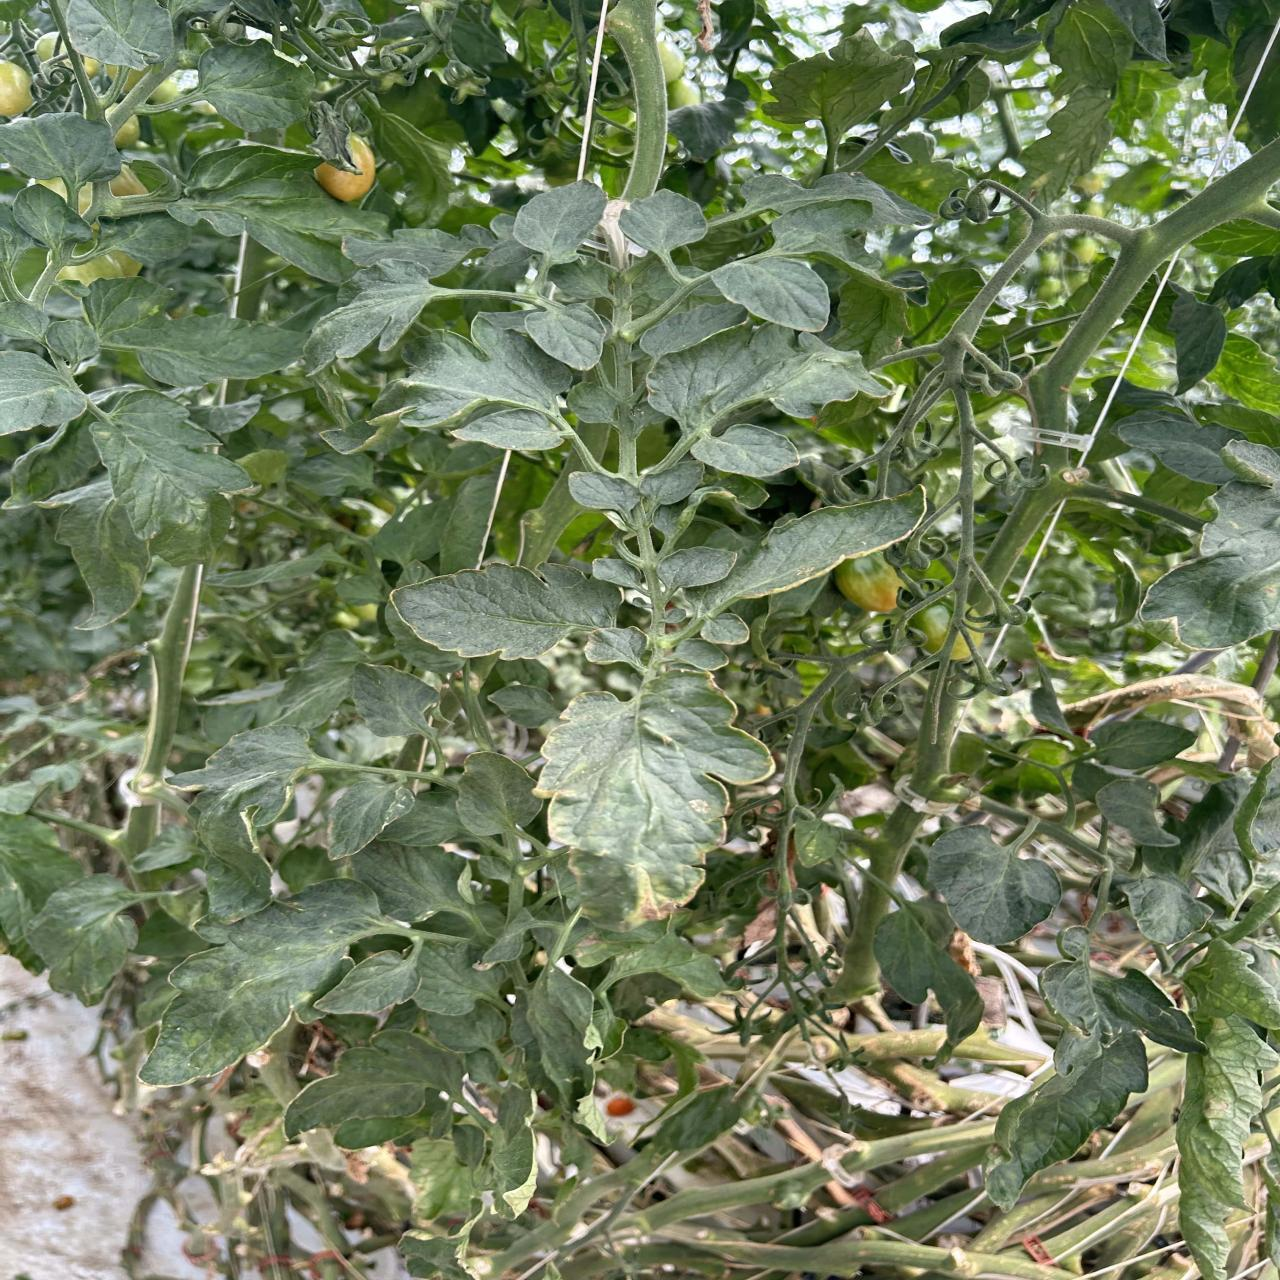Hoja: (1139, 442, 1280, 651), (90, 390, 252, 564), (987, 1032, 1148, 1203), (704, 489, 925, 612), (646, 324, 881, 435), (392, 565, 621, 659), (285, 1028, 463, 1149), (402, 313, 573, 428), (928, 826, 1061, 944), (874, 905, 982, 1043), (27, 874, 141, 1002), (107, 314, 306, 387), (304, 266, 437, 373), (198, 41, 314, 138), (172, 724, 320, 794), (273, 629, 367, 730), (708, 257, 829, 332), (1117, 410, 1234, 485), (64, 0, 176, 70), (513, 181, 607, 264), (690, 424, 798, 478), (619, 190, 707, 254), (524, 304, 608, 370), (452, 409, 563, 450), (656, 546, 736, 590), (568, 471, 640, 513), (640, 458, 703, 504)
Hoja rugoso: (535, 673, 772, 921), (141, 880, 380, 1084), (1177, 939, 1280, 1280)
Pedunculo: (1028, 141, 1280, 431), (892, 203, 1055, 638), (600, 230, 701, 481), (118, 565, 203, 863), (835, 802, 925, 1001), (981, 441, 1069, 587), (607, 0, 666, 200)
Tomate Rugoso: (832, 552, 904, 613), (315, 136, 376, 203)
